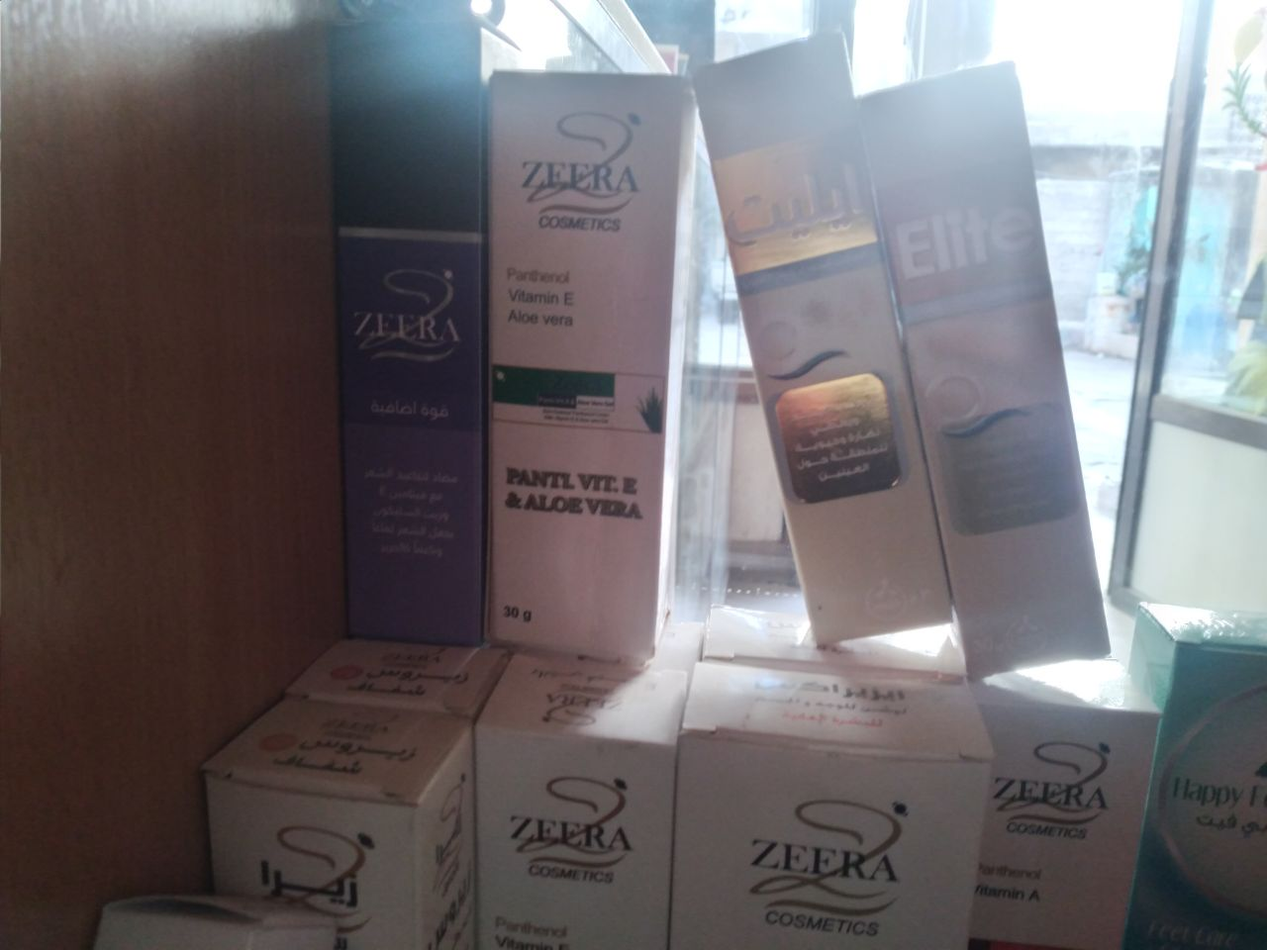Medicine: (851, 42, 1128, 670), (685, 42, 940, 651), (487, 69, 688, 656), (319, 7, 475, 646), (681, 708, 958, 950), (963, 683, 1180, 950), (210, 725, 453, 950), (470, 725, 673, 950)
